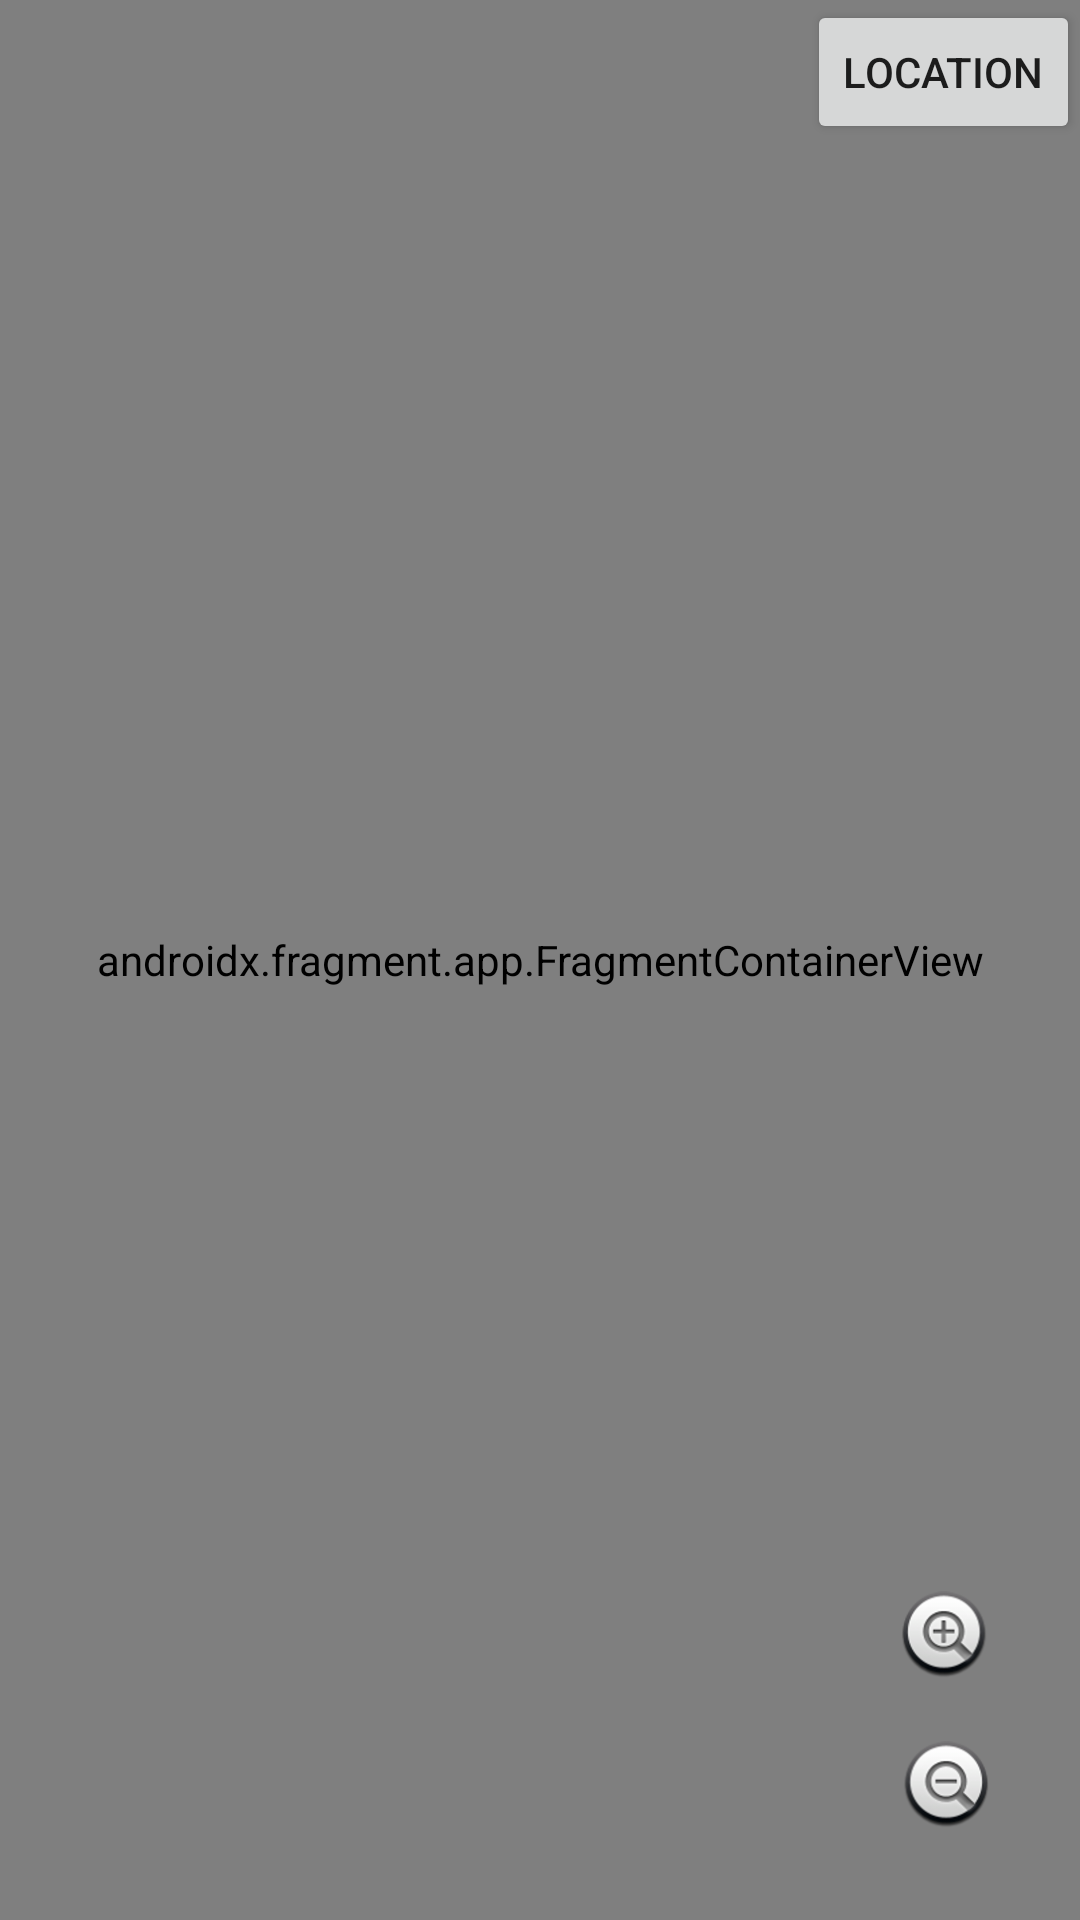

Point at icon controls on the screen. Image size 1080*1920, points as [x,y].
minus: [946,1785]
plus: [944,1635]
